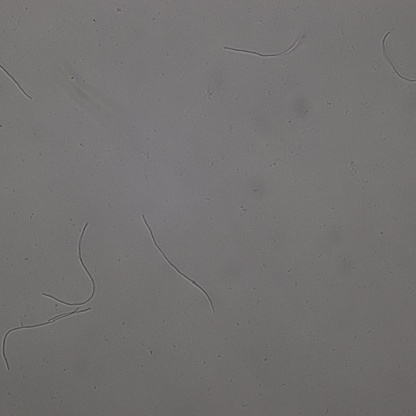Sensitive: (141, 216, 216, 310), (3, 308, 91, 369), (41, 223, 96, 307), (223, 32, 304, 59), (380, 30, 416, 81), (1, 61, 31, 99)
